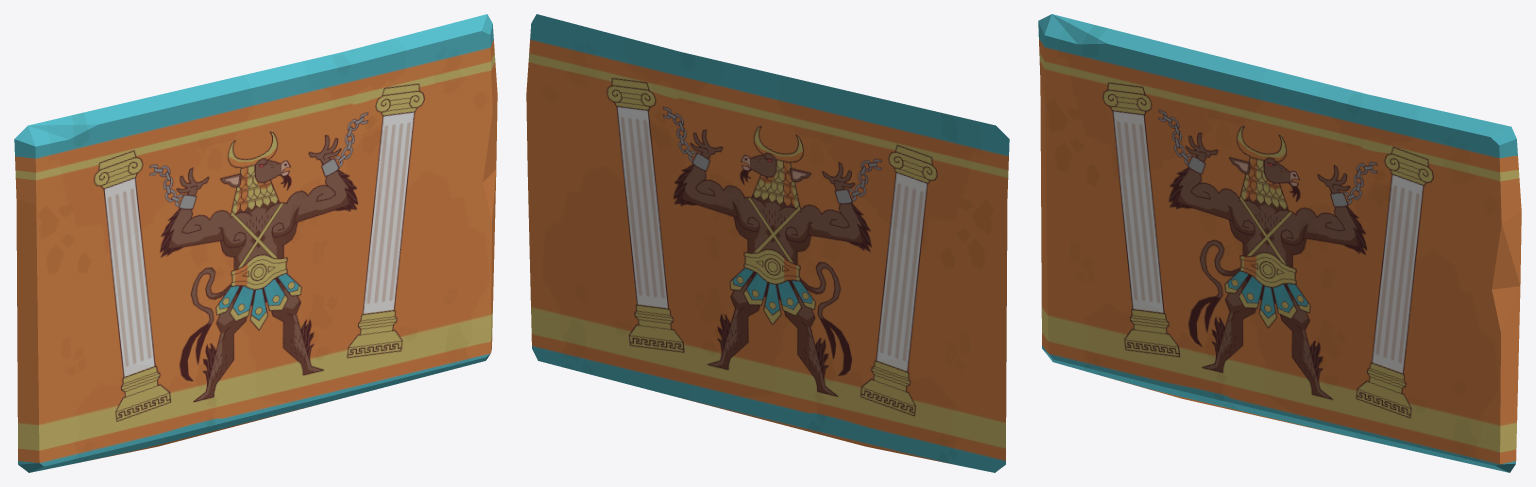
The model's file is ancient_SM_Prop_Mural_02.gltf.
The picture shows the model from 3 angles, left to right: view 1: azimuth 30°, elevation 25°; view 2: azimuth 150°, elevation 25°; view 3: azimuth 330°, elevation 25°; orthographic projection.
Visible parts, largest first — view 1: SM_Prop_Mural_02; view 2: SM_Prop_Mural_02; view 3: SM_Prop_Mural_02.
Part boxes in pixels (left/top/right/bottom): SM_Prop_Mural_02: left=14, top=14, right=497, bottom=472; SM_Prop_Mural_02: left=526, top=14, right=1009, bottom=472; SM_Prop_Mural_02: left=1038, top=14, right=1521, bottom=472.
Bounding box in the file's own units: 2.53 × 1.77 × 0.0684.
1 material, 1 textured.
